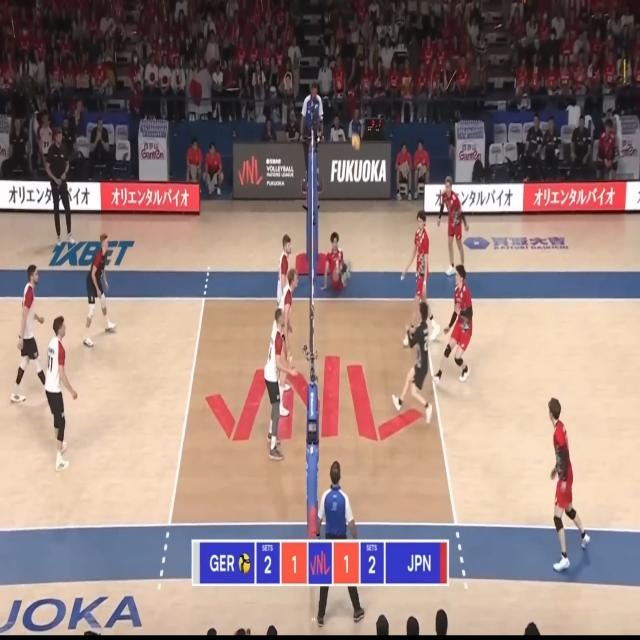ball: (352, 133, 360, 150)
